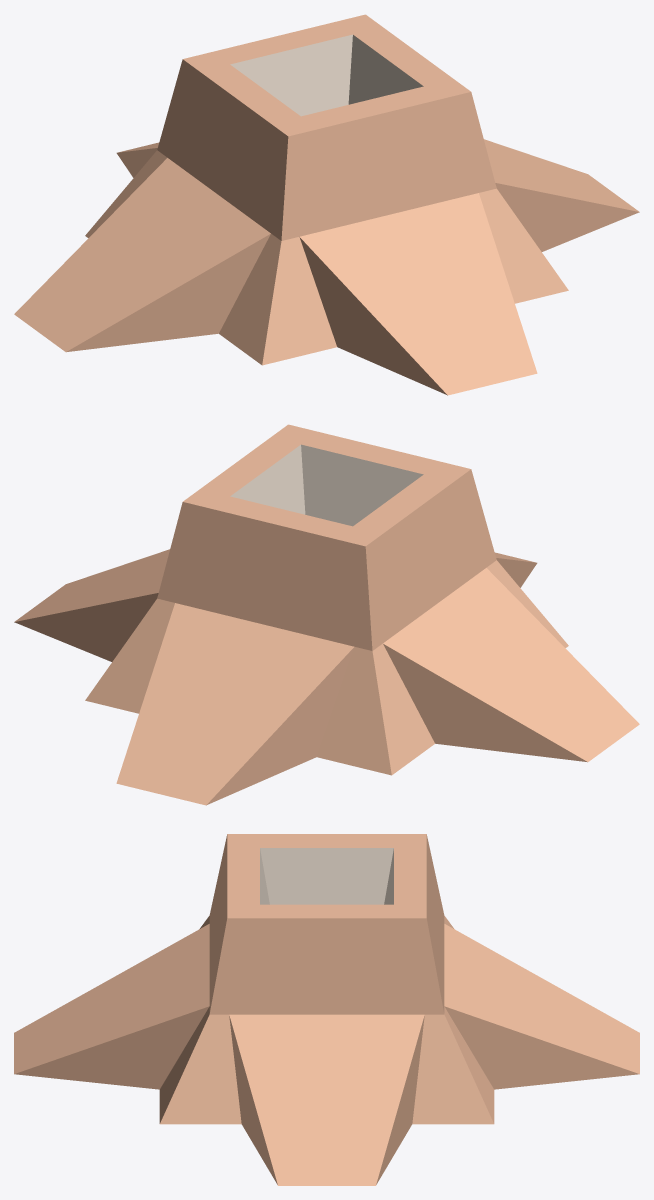
The model's file is stump_squareDetailedWide.glb.
The picture shows the model from 3 angles, top to bottom: view 1: azimuth 30°, elevation 25°; view 2: azimuth 150°, elevation 25°; view 3: azimuth 270°, elevation 25°; orthographic projection. The views are drawn at different scales.
Parts seen in each view (by area): view 1: stump_squareDetailedWide; view 2: stump_squareDetailedWide; view 3: stump_squareDetailedWide.
Boxes of the visible parts, box(x1,y1,x2,y2) form: stump_squareDetailedWide: box(14, 14, 639, 395); stump_squareDetailedWide: box(14, 424, 639, 805); stump_squareDetailedWide: box(14, 834, 639, 1185).
Bounding box in the file's own units: 0.7434 × 0.2323 × 0.7434.
